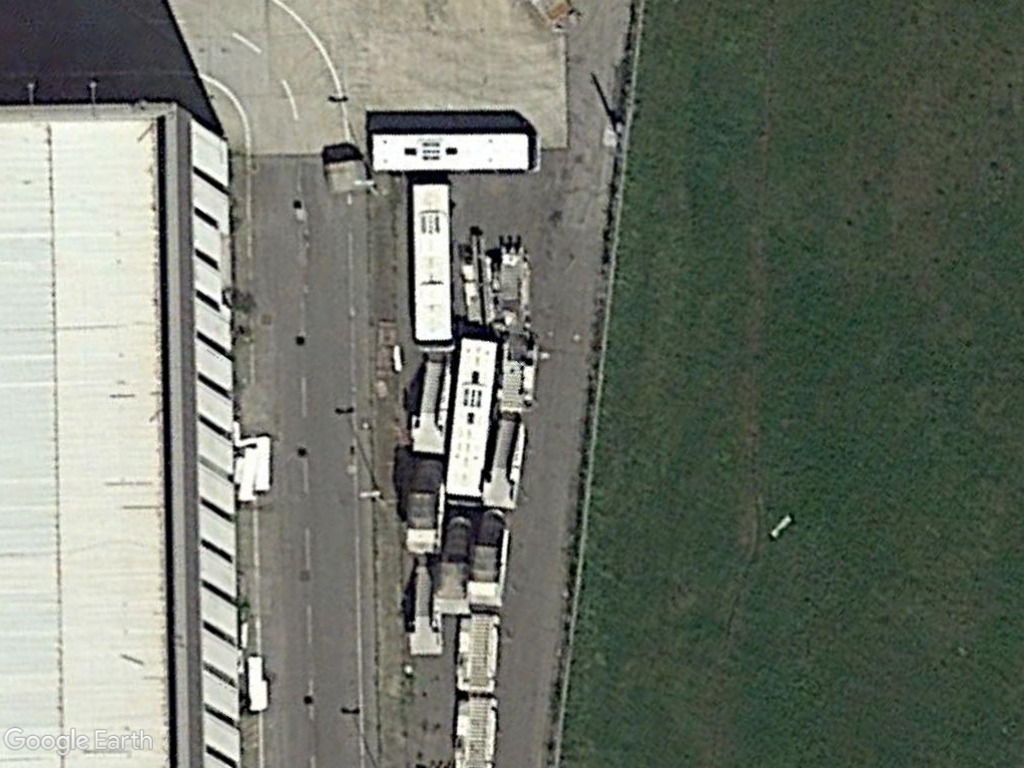bus: (440, 333, 498, 509), (365, 125, 546, 176), (406, 178, 456, 357)
stairtruck: (479, 415, 528, 511)
